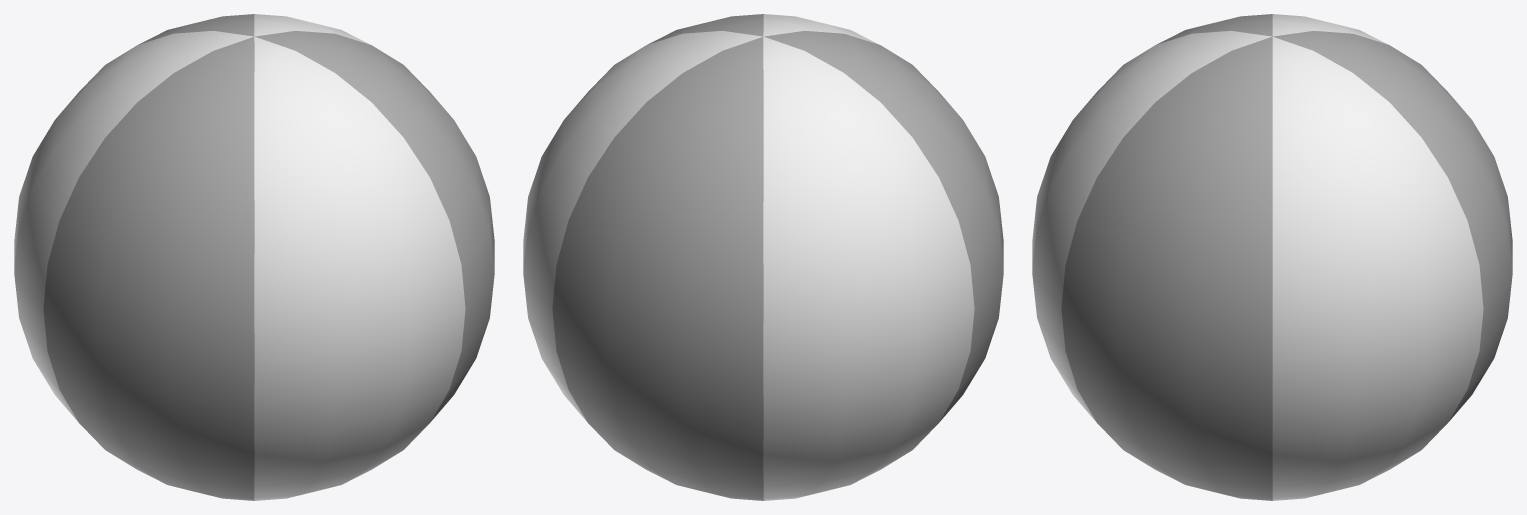
The model's file is Volleyball.fbx.
The picture shows the model from 3 angles, left to right: view 1: azimuth 30°, elevation 25°; view 2: azimuth 150°, elevation 25°; view 3: azimuth 270°, elevation 25°; orthographic projection.
Visible parts, largest first — view 1: Volleyball; view 2: Volleyball; view 3: Volleyball.
Boxes of the visible parts, box(x1,y1,x2,y2) form: Volleyball: box(14, 14, 494, 500); Volleyball: box(523, 14, 1003, 500); Volleyball: box(1032, 14, 1512, 500).
Size of the model in its own units: 96.75 by 96.75 by 95.28.
